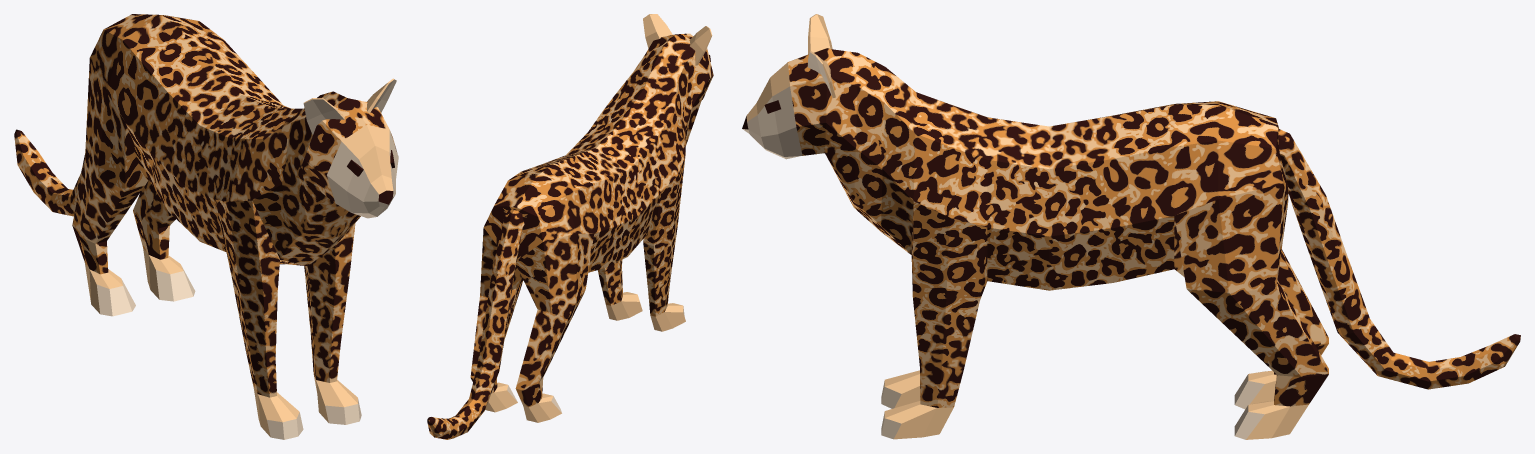
Rendered from Mesh_Leopard.obj.
3 views of the same model, side by side, from view 1: azimuth 30°, elevation 25°; view 2: azimuth 150°, elevation 25°; view 3: azimuth 270°, elevation 25° (orthographic). The views are drawn at different scales.
Visible parts, largest first — view 1: Geo_Leopard; view 2: Geo_Leopard; view 3: Geo_Leopard.
Part boxes in pixels (left/top/right/bottom): Geo_Leopard: left=14, top=14, right=398, bottom=439; Geo_Leopard: left=427, top=14, right=713, bottom=439; Geo_Leopard: left=742, top=14, right=1520, bottom=439.
Size of the model in its own units: 43 by 121 by 225.
Materials: 1 (1 with a texture image).
